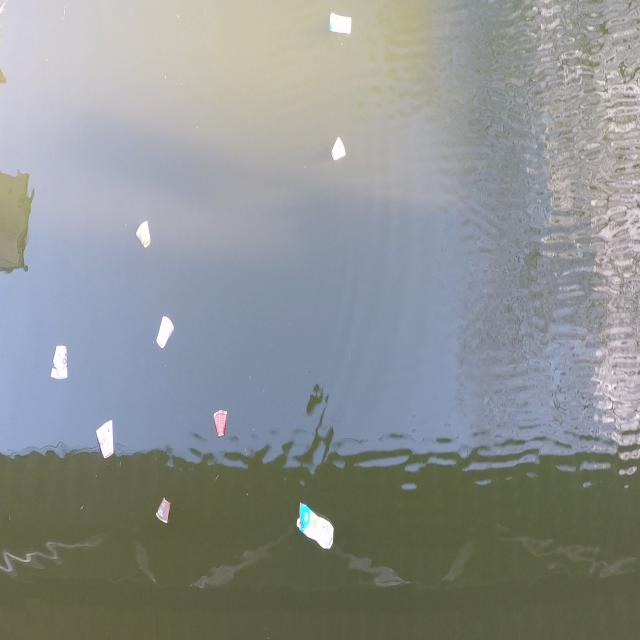Non plastique: (88, 410, 120, 471), (43, 336, 72, 388), (151, 309, 177, 356), (147, 493, 177, 531), (130, 216, 157, 257), (324, 131, 348, 171), (210, 400, 230, 446)
